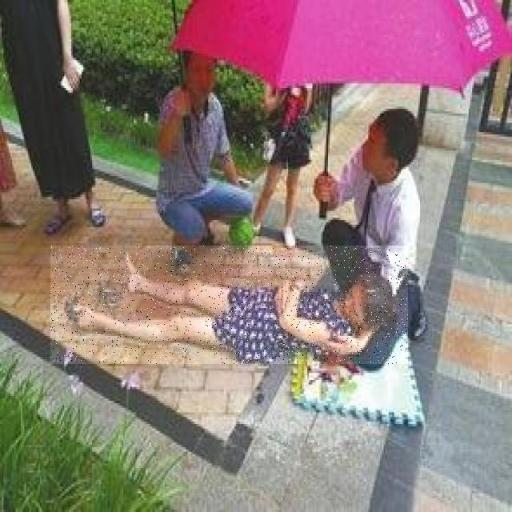Fall: (50, 246, 408, 364)
